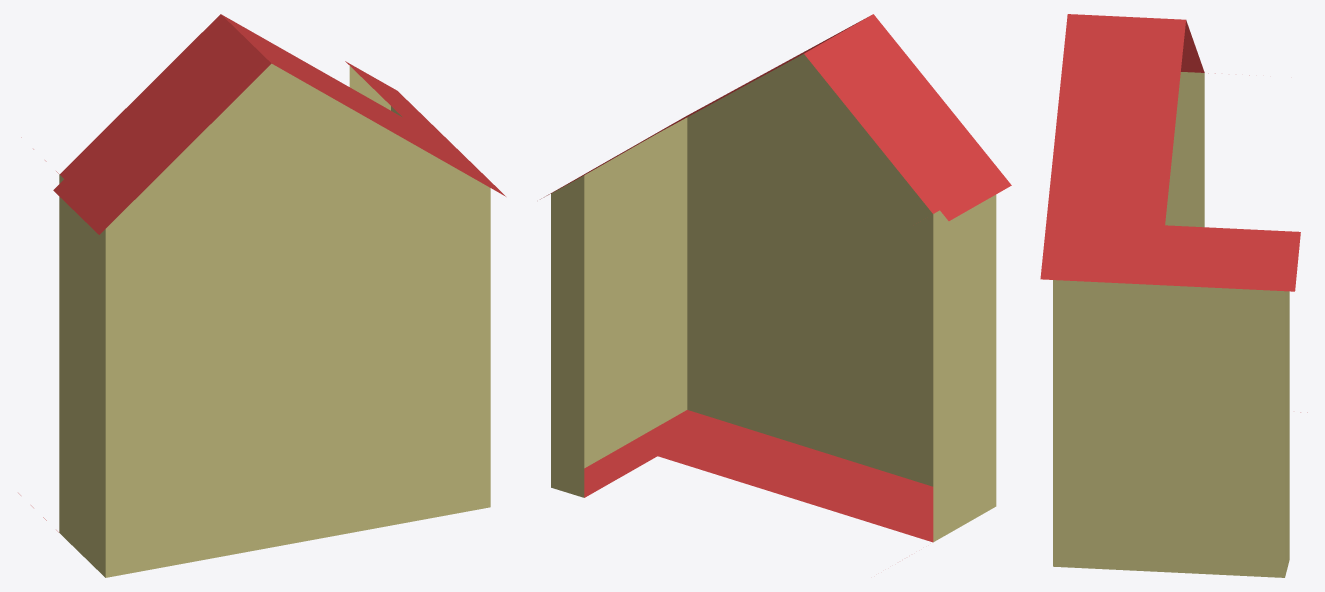
3 views of the same model, side by side, from view 1: azimuth 30°, elevation 25°; view 2: azimuth 150°, elevation 25°; view 3: azimuth 270°, elevation 25° (orthographic). The views are drawn at different scales.
Bounding box in the file's own units: 9.65 × 5.91 × 11.03.
